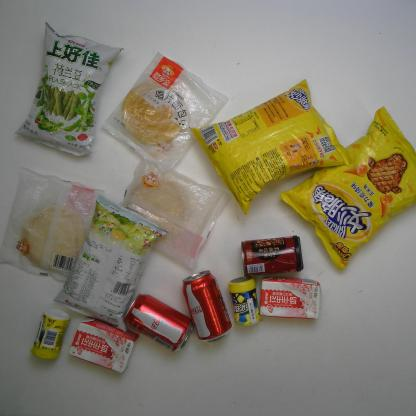Canned Food: (239, 233, 306, 277)
Dessert: (98, 49, 231, 172), (113, 153, 235, 274), (3, 166, 106, 284)
Drink: (122, 290, 196, 354), (180, 268, 233, 344)
Gum: (28, 307, 71, 363), (227, 274, 263, 329)
Milk: (67, 316, 140, 374), (258, 275, 323, 324)
Puffed Food: (187, 76, 354, 218), (277, 104, 416, 274), (51, 191, 170, 335), (13, 18, 124, 160)
